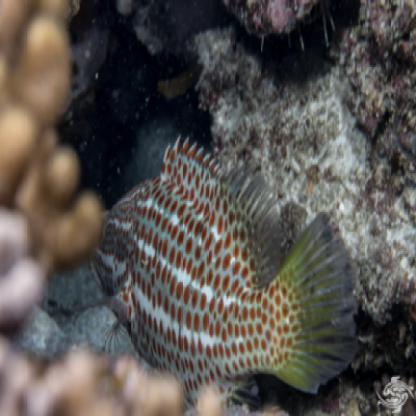Serranidae -Groupers-: (78, 126, 362, 398)
